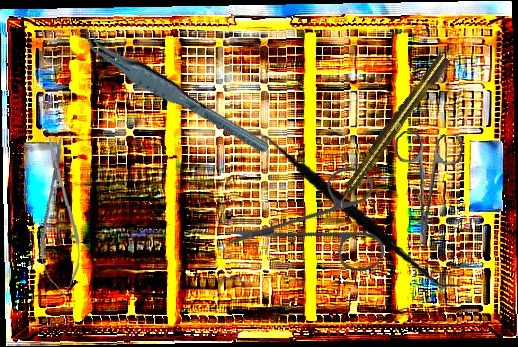Handpiece: (330, 52, 453, 211)
Iris Scissors: (221, 127, 417, 323), (386, 130, 464, 250)
Micro Scissor: (33, 136, 85, 296)
Spatula Surgical: (228, 127, 477, 291)
Tissue Forceps: (77, 11, 272, 174)
